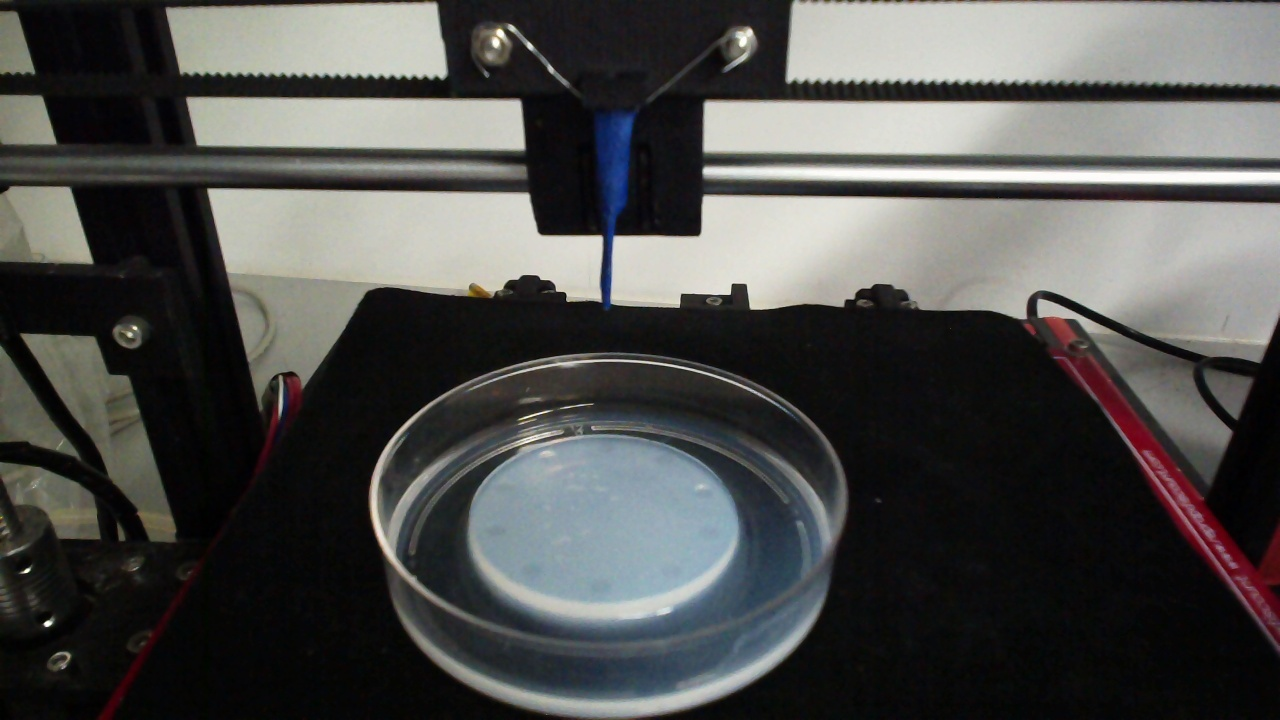groove: (588, 576, 614, 596), (484, 520, 509, 540), (659, 561, 683, 581), (694, 522, 718, 541), (693, 482, 715, 501), (517, 561, 542, 577), (492, 480, 517, 494), (653, 450, 673, 466), (595, 442, 615, 455), (537, 449, 555, 462)
needle: (594, 111, 632, 313)
